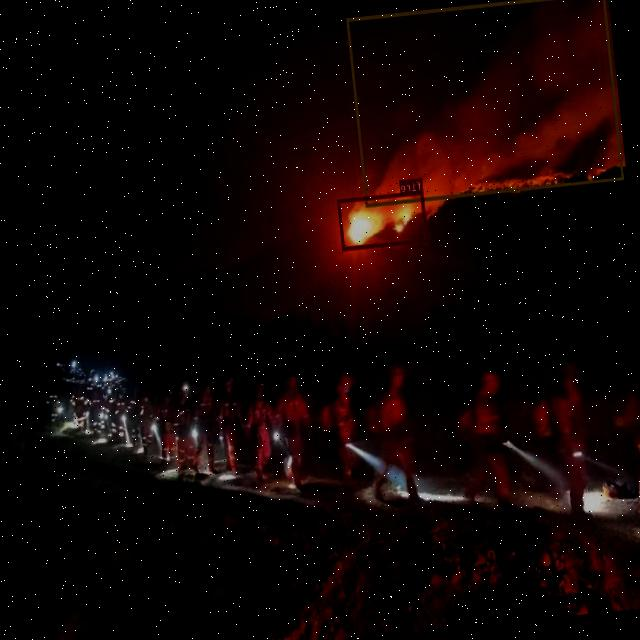fire: (338, 190, 428, 250)
smoke: (346, 0, 624, 205)
